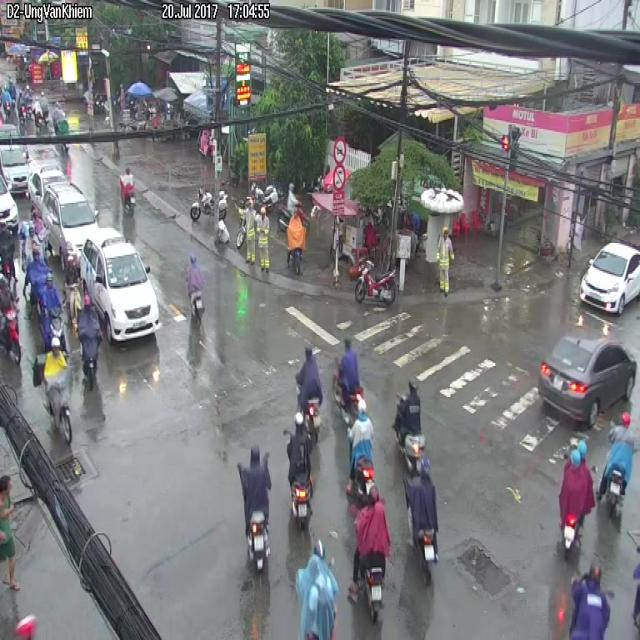car: (350, 487, 390, 621), (238, 449, 269, 570), (287, 410, 312, 529), (78, 292, 101, 388)
traffic-light: (538, 335, 636, 425), (81, 237, 158, 341), (38, 185, 122, 256), (579, 241, 639, 314)
